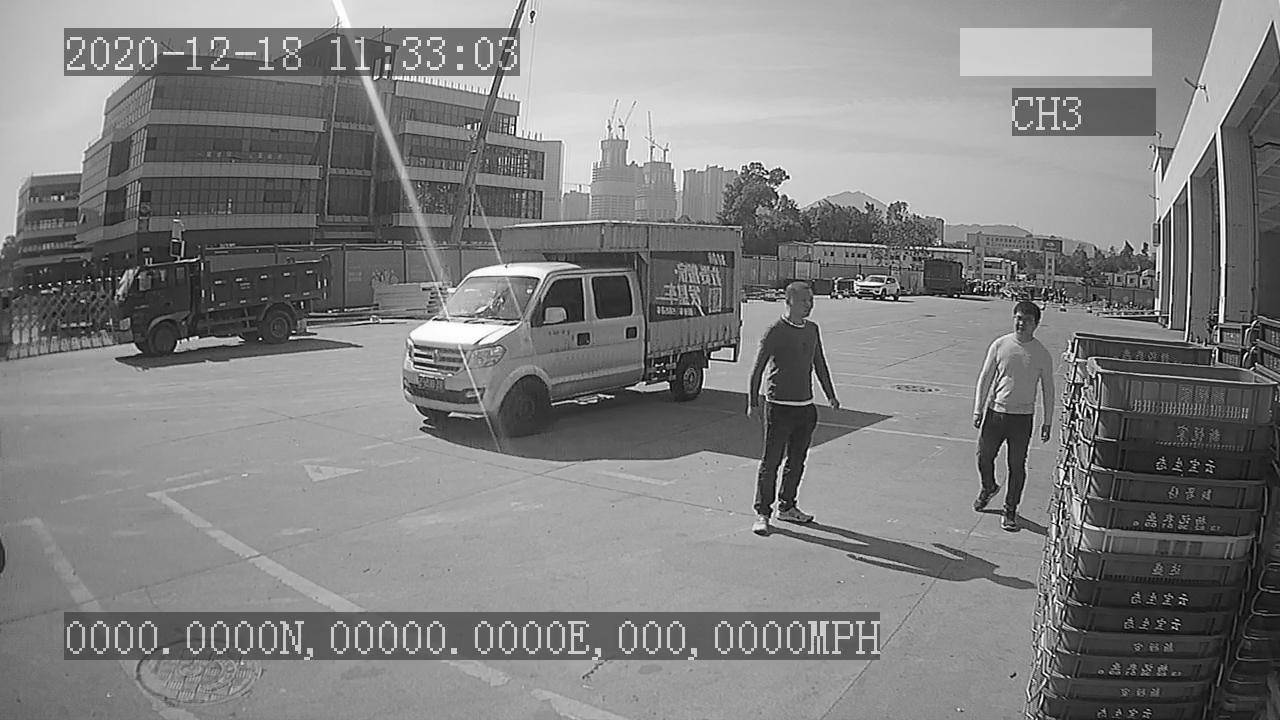person: (967, 295, 1054, 529)
